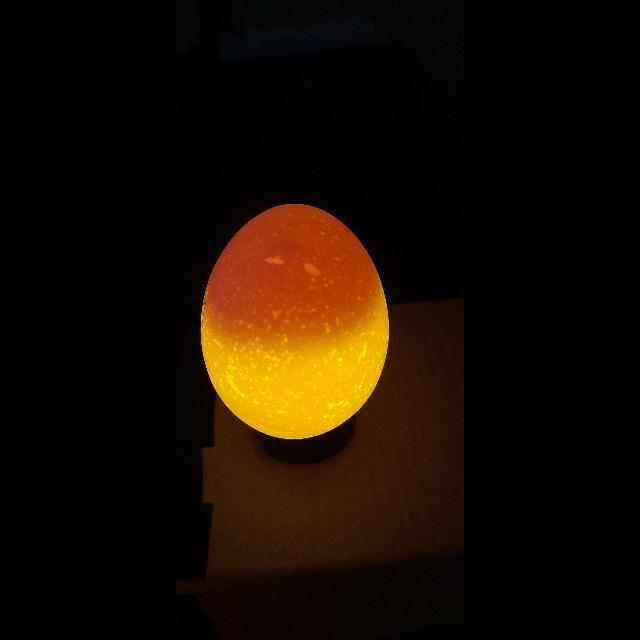Fertile: (196, 192, 392, 450)
